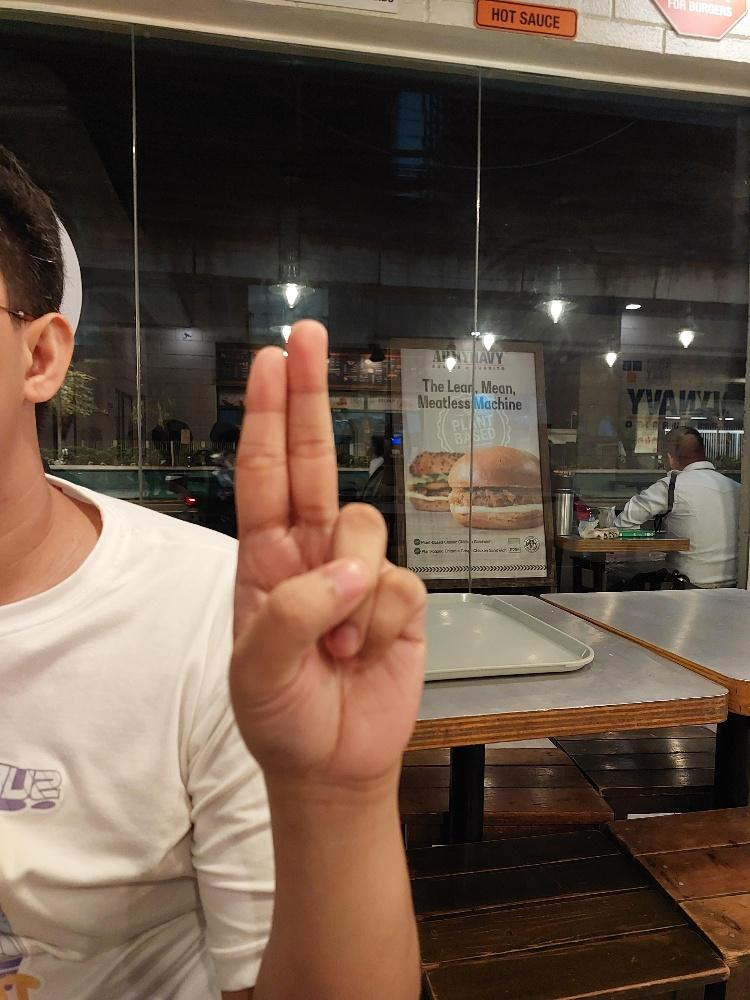u: (225, 316, 431, 789)
